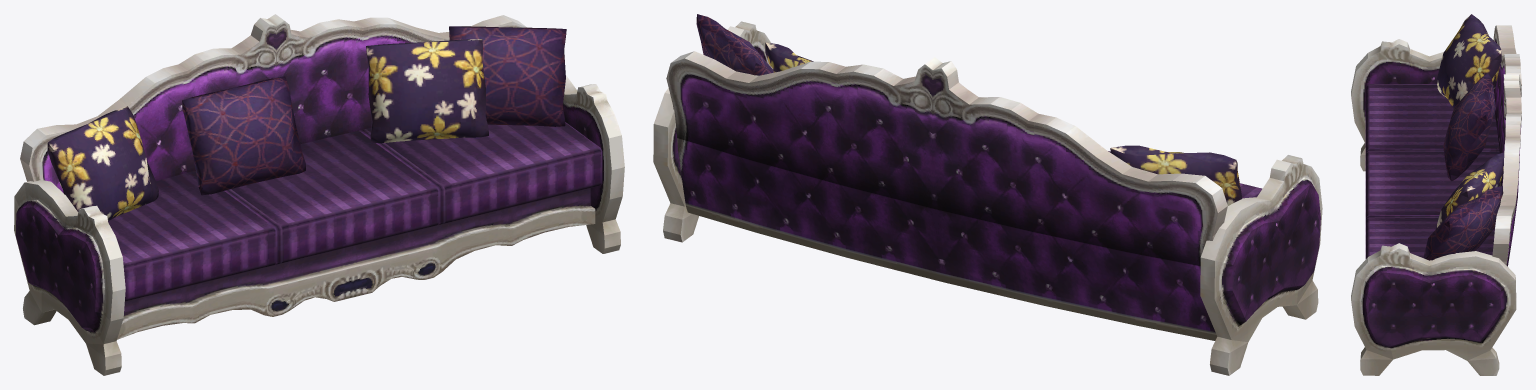
Rendered from furni_0201113_01.FBX.
3 renders of one model, left to right at view 1: azimuth 30°, elevation 25°; view 2: azimuth 150°, elevation 25°; view 3: azimuth 270°, elevation 25°, orthographic. The views are drawn at different scales.
Parts seen in each view (by area): view 1: furni_0201113_01; view 2: furni_0201113_01; view 3: furni_0201113_01.
Boxes of the visible parts, box(x1,y1,x2,y2) form: furni_0201113_01: box(14, 14, 624, 375); furni_0201113_01: box(653, 14, 1322, 375); furni_0201113_01: box(1351, 14, 1521, 375).
Size of the model in its own units: 239 by 99.45 by 79.86.
2 materials, 2 textured.
